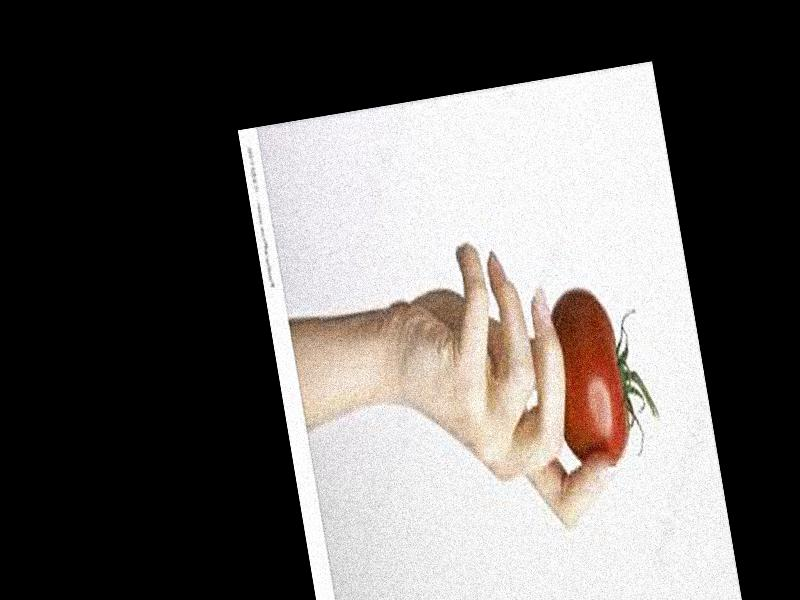Tomato: (542, 281, 664, 470)
